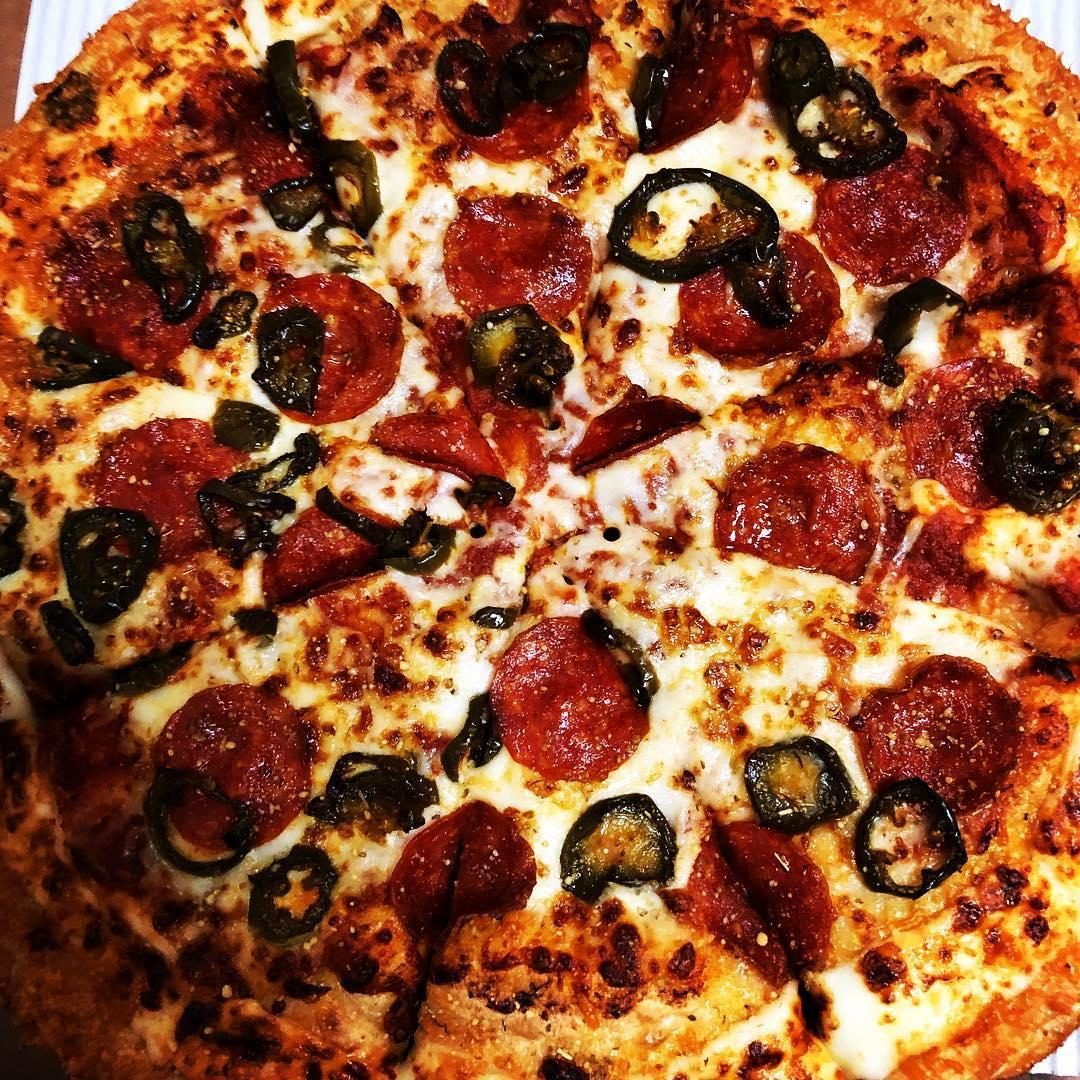Pepperoni: (483, 608, 639, 780), (677, 828, 842, 989), (858, 656, 1017, 817), (158, 691, 309, 852), (683, 213, 837, 364), (93, 418, 242, 557), (816, 148, 967, 282), (448, 193, 595, 329), (908, 356, 1034, 514), (721, 446, 876, 574), (56, 241, 209, 370), (391, 806, 537, 940), (261, 273, 402, 409), (443, 31, 585, 152), (261, 501, 409, 607), (371, 388, 529, 484), (568, 388, 702, 492), (661, 11, 766, 134), (228, 103, 314, 199)
Pizza: (0, 0, 1080, 1080)
